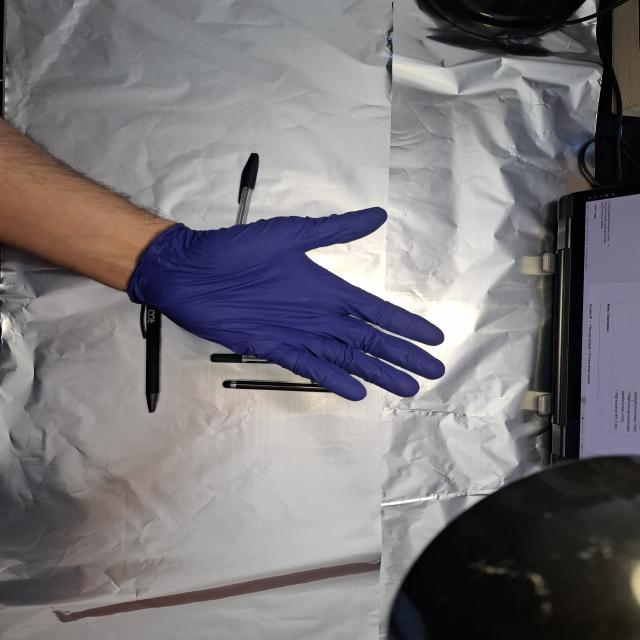glove_on: (124, 205, 450, 402)
